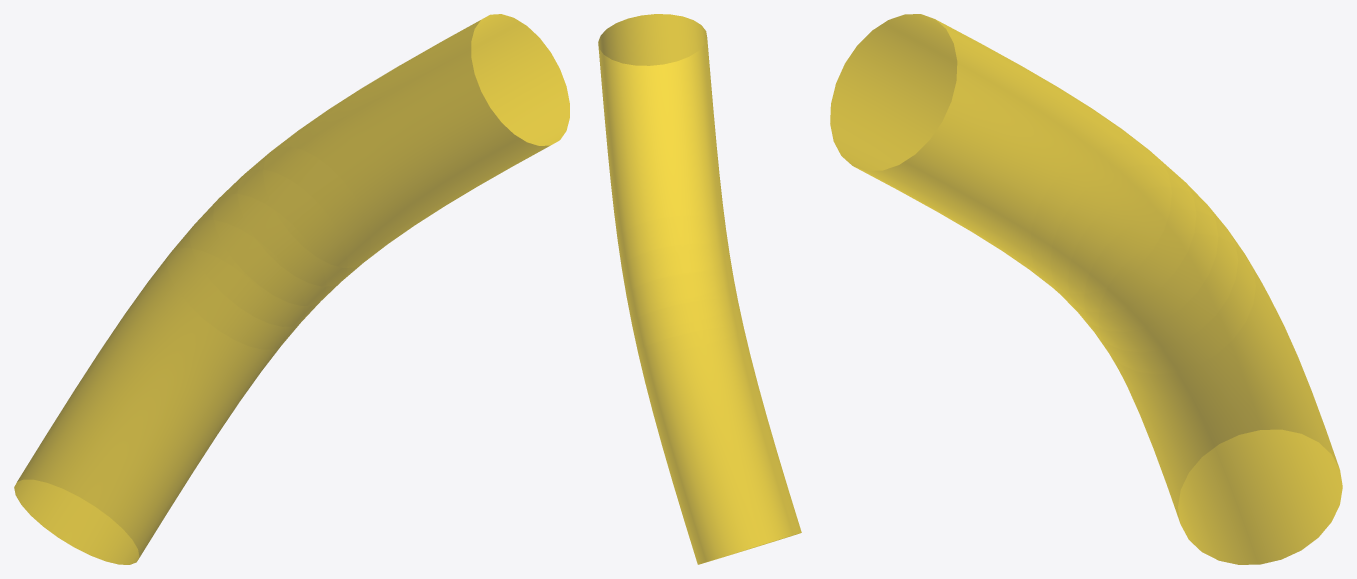
The model's file is Event_75125125_track_68.fbx.
The picture shows the model from 3 angles, left to right: view 1: azimuth 30°, elevation 25°; view 2: azimuth 150°, elevation 25°; view 3: azimuth 270°, elevation 25°; orthographic projection. The views are drawn at different scales.
Visible parts, largest first — view 1: Model; view 2: Model; view 3: Model.
Boxes of the visible parts, bbox=[...] form: Model: bbox=[14, 14, 569, 564]; Model: bbox=[598, 14, 801, 564]; Model: bbox=[830, 14, 1342, 564].
Bounding box in the file's own units: 0.1264 × 0.1745 × 0.1217.
